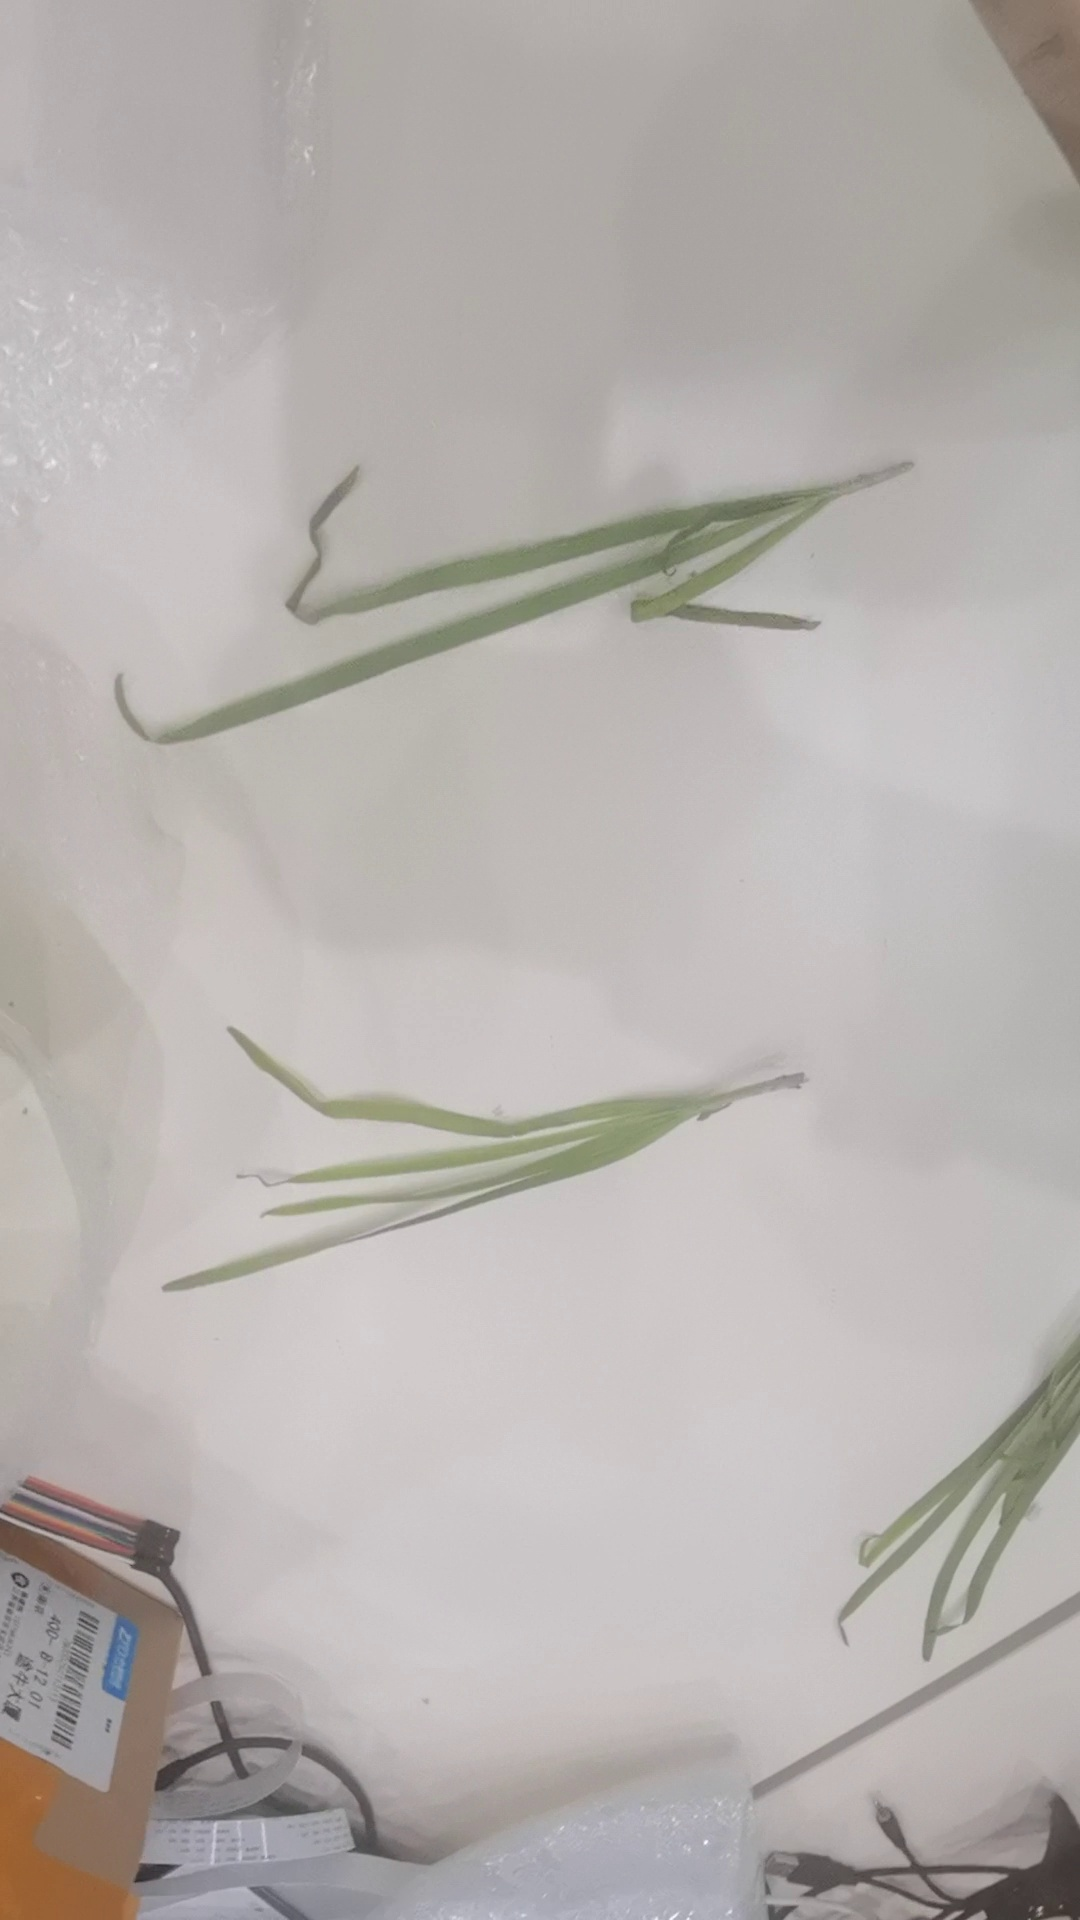chives: (83, 435, 924, 762), (171, 1002, 824, 1288)
